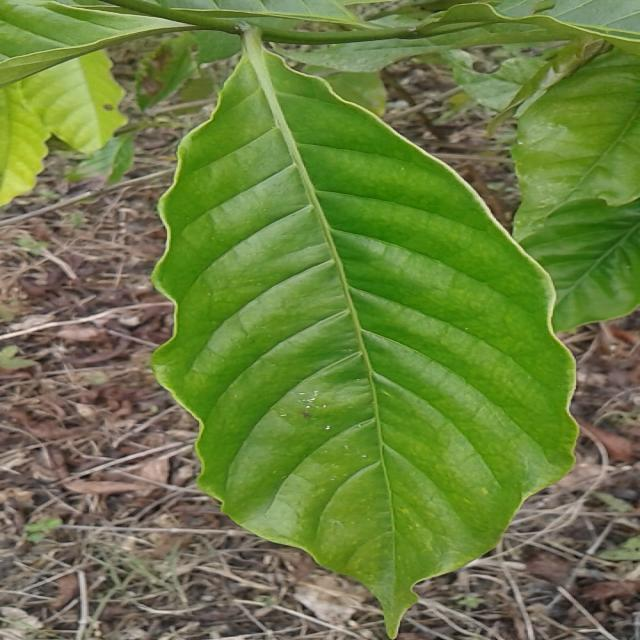Sanas: (150, 28, 580, 640)
